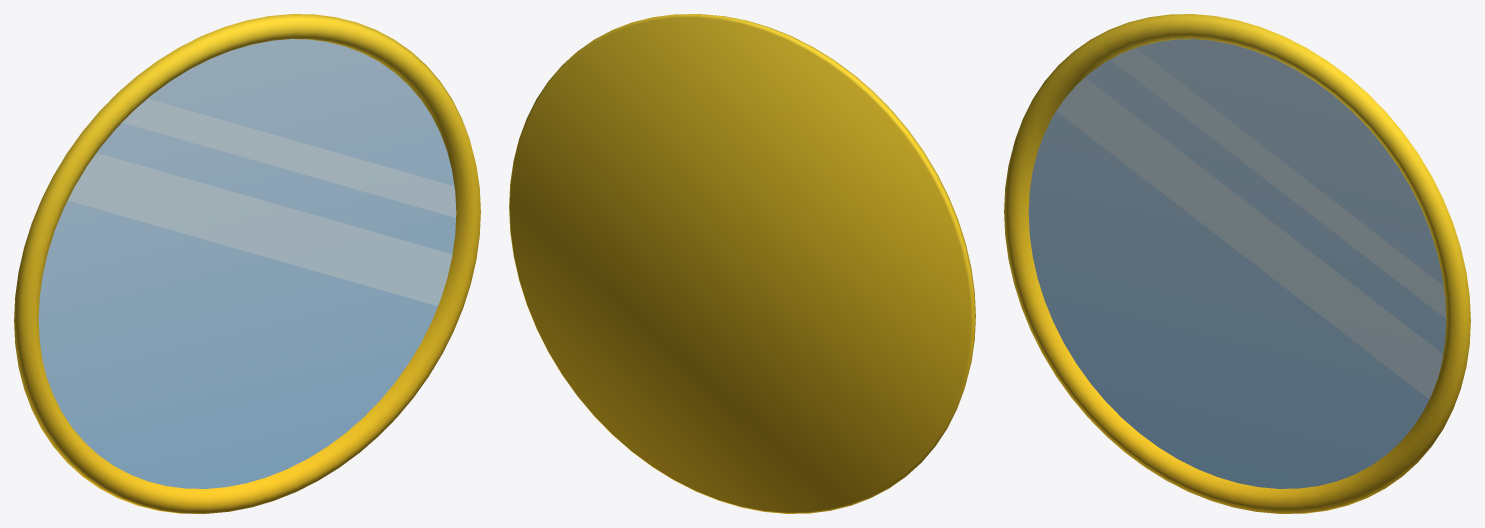
The model's file is Bath_Mirror_01.glb.
3 views of the same model, side by side, from view 1: azimuth 30°, elevation 25°; view 2: azimuth 150°, elevation 25°; view 3: azimuth 330°, elevation 25° (orthographic).
Visible parts, largest first — view 1: Bath_Mirror_01; view 2: Bath_Mirror_01; view 3: Bath_Mirror_01.
Boxes of the visible parts, bbox=[...] form: Bath_Mirror_01: bbox=[14, 14, 480, 513]; Bath_Mirror_01: bbox=[509, 14, 975, 513]; Bath_Mirror_01: bbox=[1004, 14, 1470, 513].
Size of the model in its own units: 1.2 by 1.2 by 0.036.
1 material, 1 textured.
